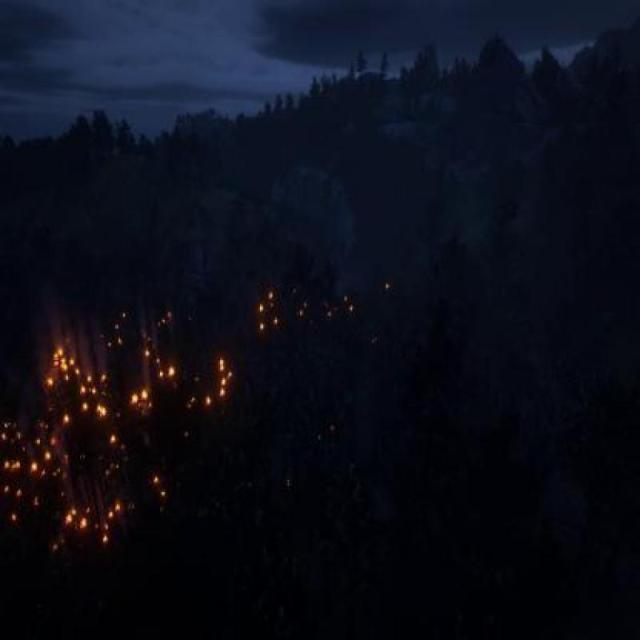Fire: (68, 298, 124, 554), (130, 307, 197, 518), (4, 369, 66, 569), (200, 335, 237, 420), (297, 278, 363, 320), (256, 272, 282, 340), (377, 270, 395, 296)
